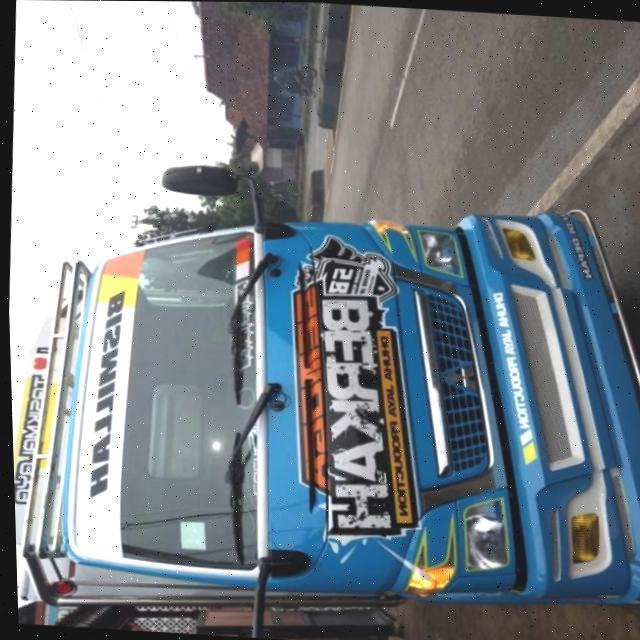truck: (3, 150, 640, 640)
